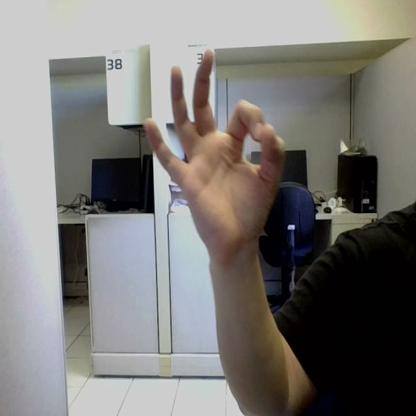F: (146, 50, 285, 241)
